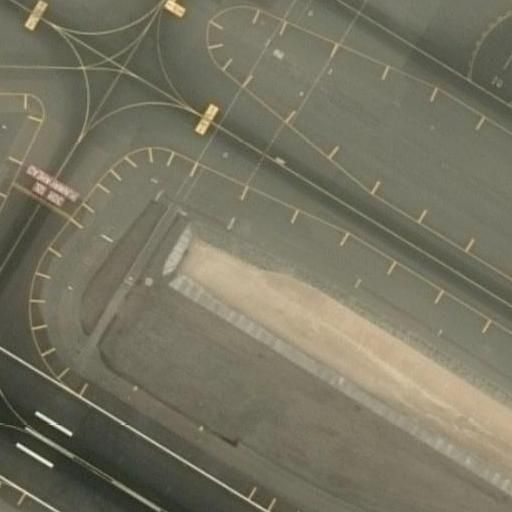Aircraft: (493, 0, 512, 17)
